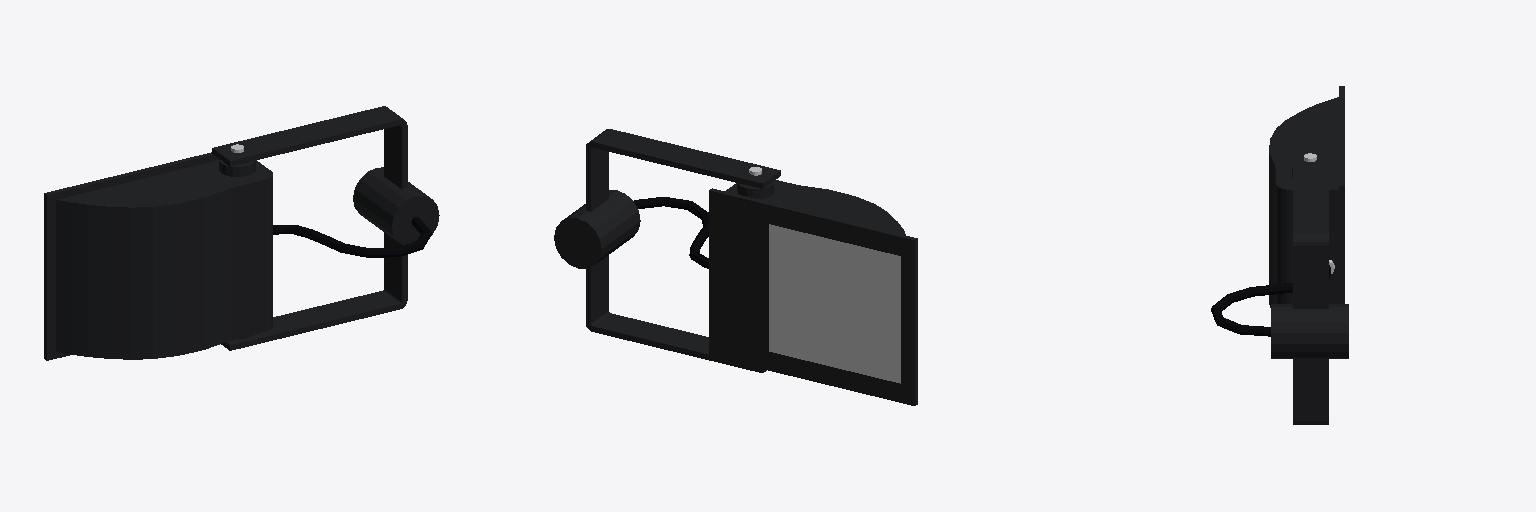
3 renders of one model, left to right at view 1: azimuth 30°, elevation 25°; view 2: azimuth 150°, elevation 25°; view 3: azimuth 270°, elevation 25°, orthographic.
Visible parts, largest first — view 1: Gehaeuse.001_Mesh.001, Halterung.001_BezierCurve.005, Mastrohr.001_Cylinder.003, Kabel.002_BezierCurve.003, Halteringe.001_BezierCurve.006; view 2: Gehaeuse.001_Mesh.001, Halterung.001_BezierCurve.005, Mastrohr.001_Cylinder.003, Kabel.002_BezierCurve.003; view 3: Gehaeuse.001_Mesh.001, Halterung.001_BezierCurve.005, Mastrohr.001_Cylinder.003, Kabel.002_BezierCurve.003.
Part boxes in pixels (x1,y1,x2,y2): Gehaeuse.001_Mesh.001: (44, 152, 272, 360); Halterung.001_BezierCurve.005: (212, 106, 407, 350); Mastrohr.001_Cylinder.003: (353, 167, 439, 244); Kabel.002_BezierCurve.003: (273, 217, 431, 257); Halteringe.001_BezierCurve.006: (219, 144, 255, 339); Gehaeuse.001_Mesh.001: (709, 180, 917, 405); Halterung.001_BezierCurve.005: (586, 129, 780, 372); Mastrohr.001_Cylinder.003: (554, 190, 640, 268); Kabel.002_BezierCurve.003: (634, 197, 708, 268); Gehaeuse.001_Mesh.001: (1269, 86, 1344, 307); Halterung.001_BezierCurve.005: (1293, 152, 1328, 424); Mastrohr.001_Cylinder.003: (1271, 304, 1348, 358); Kabel.002_BezierCurve.003: (1211, 265, 1330, 336).
Size of the model in its own units: 0.6378 by 0.3345 by 0.2137.
Materials: 5 (3 with a texture image).